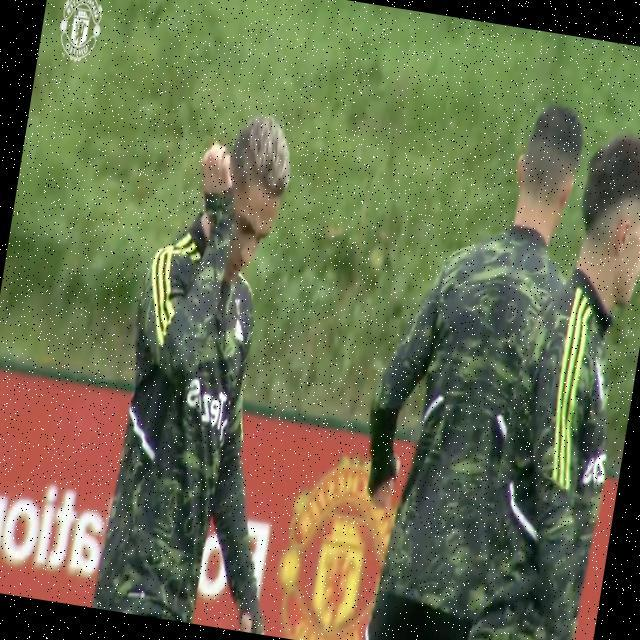Adidas: (231, 319, 247, 345)
